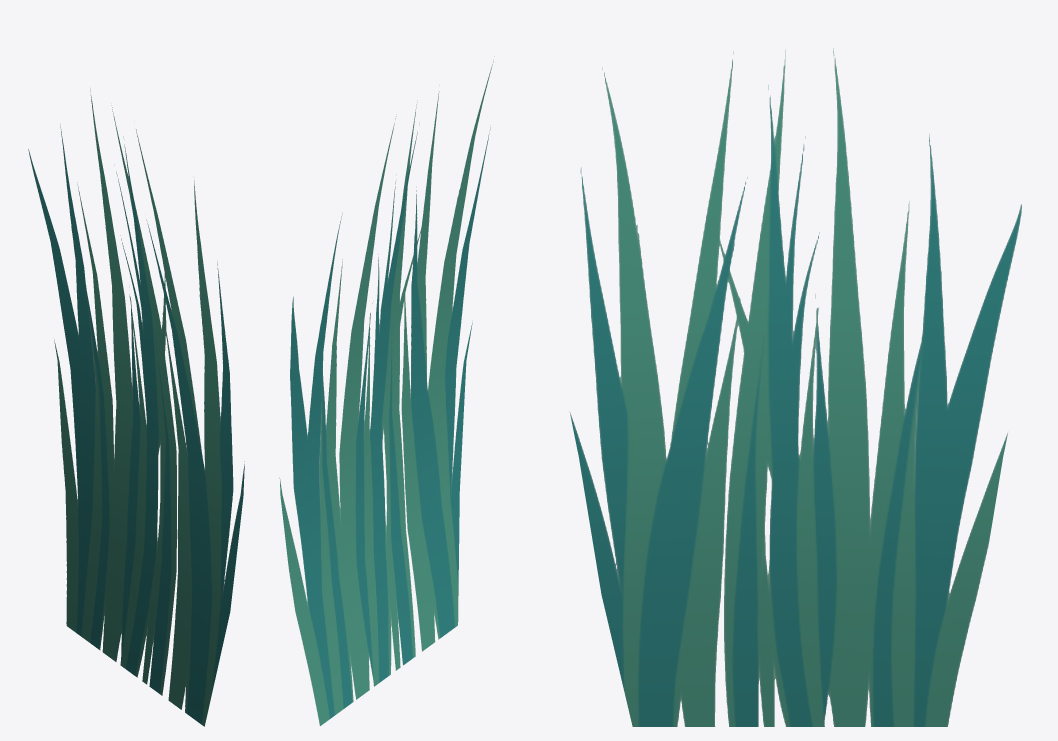
The model's file is Grass.fbx.
The picture shows the model from 3 angles, left to right: view 1: azimuth 30°, elevation 25°; view 2: azimuth 150°, elevation 25°; view 3: azimuth 270°, elevation 25°; orthographic projection. The views are drawn at different scales.
Visible parts, largest first — view 1: Grass01; view 2: Grass01; view 3: Grass01.
Part boxes in pixels (x1,y1,x2,y2): Grass01: (28,88,244,726); Grass01: (279,56,494,725); Grass01: (569,48,1021,726).
Bounding box in the file's own units: 9.98 × 125 × 82.32.
Materials: 1 (1 with a texture image).
